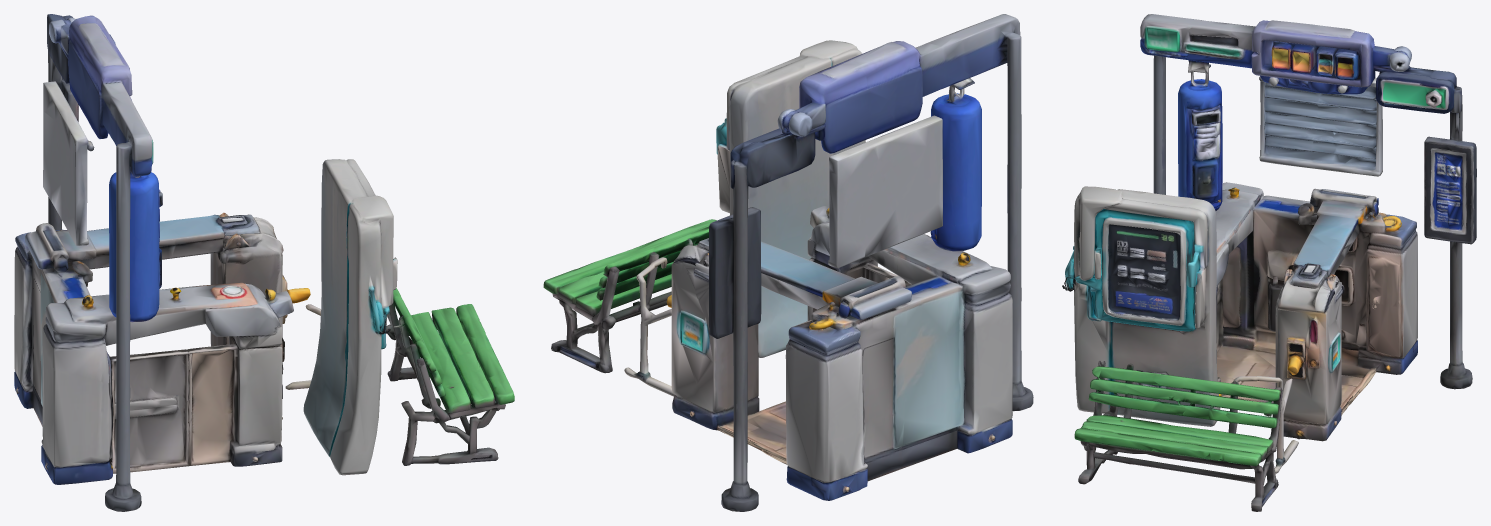
File: tripo_h31_subway_turnstile_platform_kit.glb
3 views of the same model, side by side, from view 1: azimuth 30°, elevation 25°; view 2: azimuth 150°, elevation 25°; view 3: azimuth 270°, elevation 25° (orthographic). The views are drawn at different scales.
Parts seen in each view (by area): view 1: tripo_node_5dc06b2c-3eef-435b-bc0d-c83e12c2c88f; view 2: tripo_node_5dc06b2c-3eef-435b-bc0d-c83e12c2c88f; view 3: tripo_node_5dc06b2c-3eef-435b-bc0d-c83e12c2c88f.
Part boxes in pixels (left/top/right/bottom): tripo_node_5dc06b2c-3eef-435b-bc0d-c83e12c2c88f: left=14, top=14, right=514, bottom=511; tripo_node_5dc06b2c-3eef-435b-bc0d-c83e12c2c88f: left=543, top=14, right=1033, bottom=511; tripo_node_5dc06b2c-3eef-435b-bc0d-c83e12c2c88f: left=1062, top=14, right=1476, bottom=511.
Size of the model in its own units: 0.9797 by 0.8275 by 0.9087.
1 material, 1 textured.
